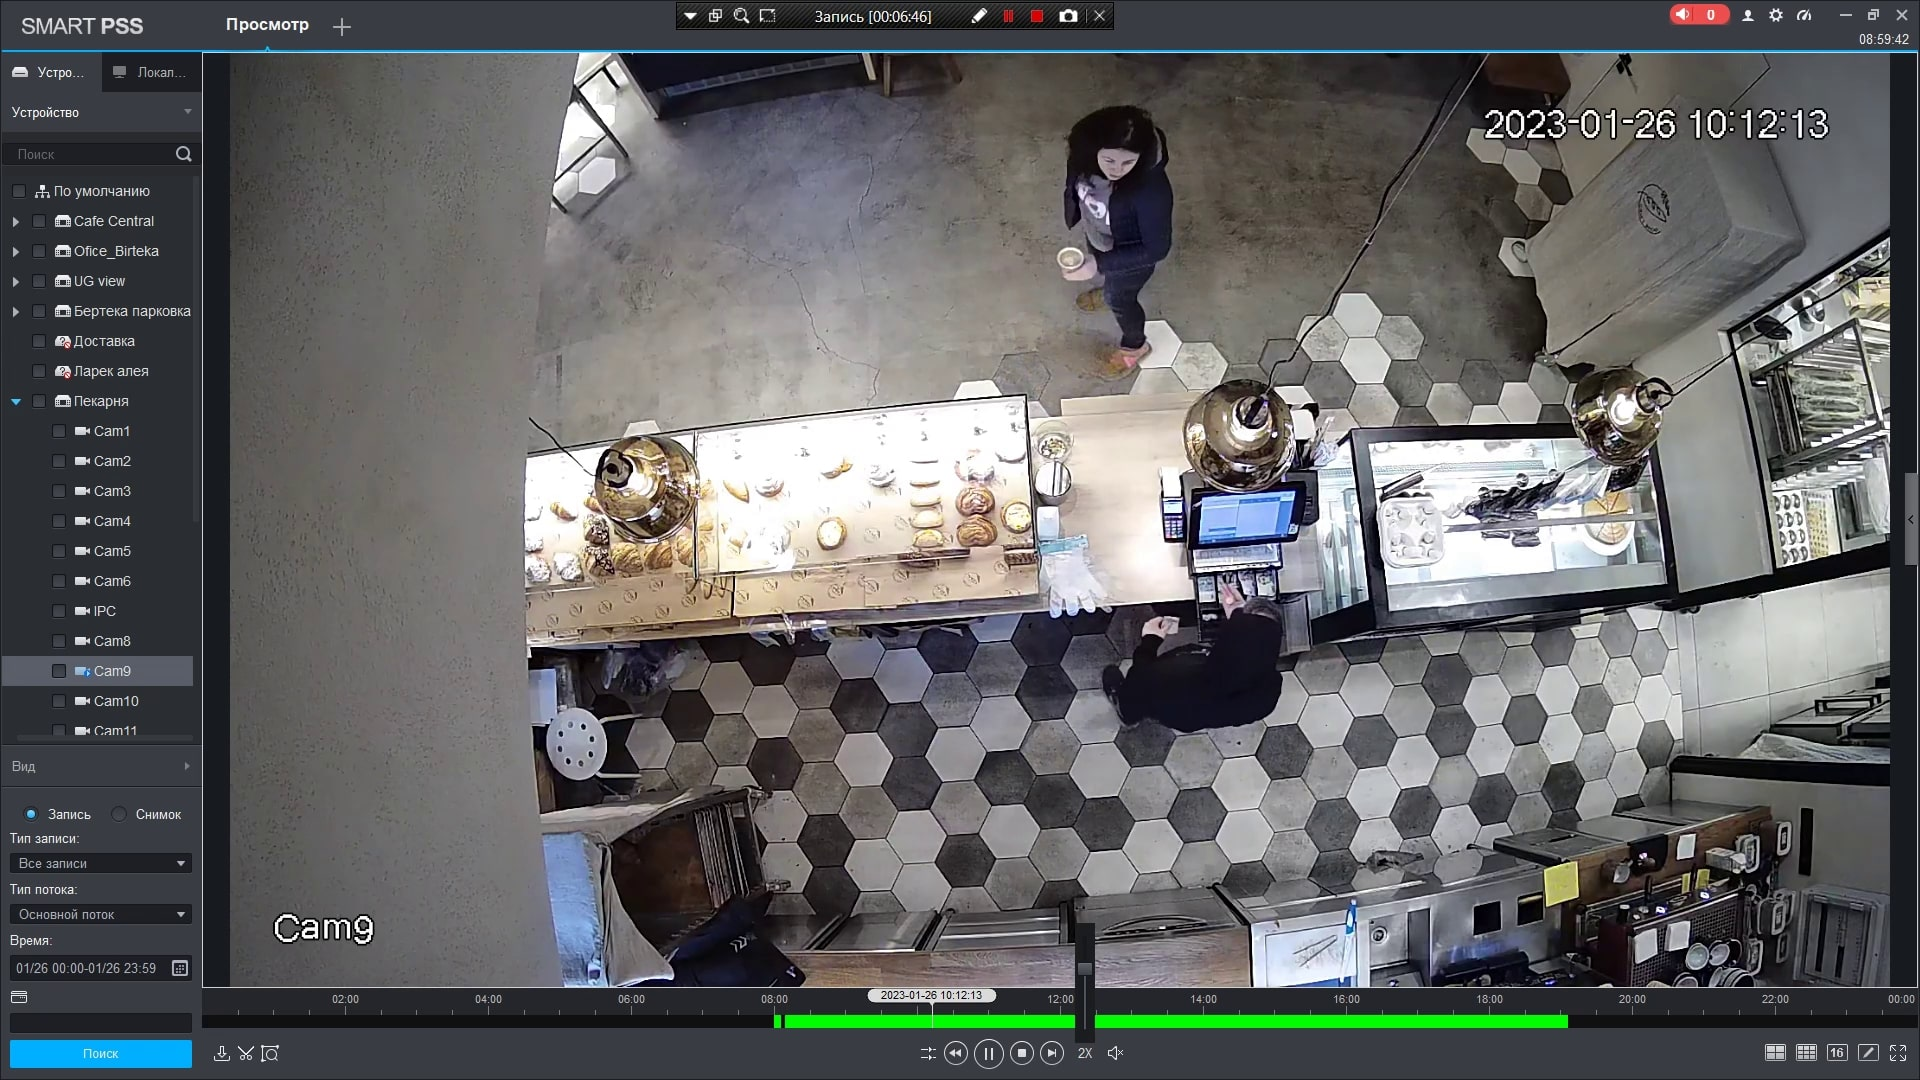barcounter: (547, 433, 1673, 646)
coffee: (1051, 241, 1086, 270)
openedcash: (1186, 471, 1307, 636)
person: (1042, 99, 1188, 372)
